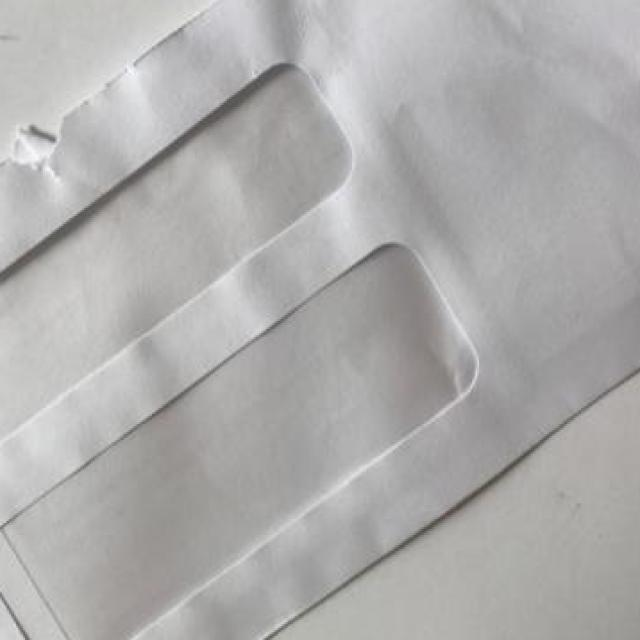organic: (0, 9, 623, 631)
